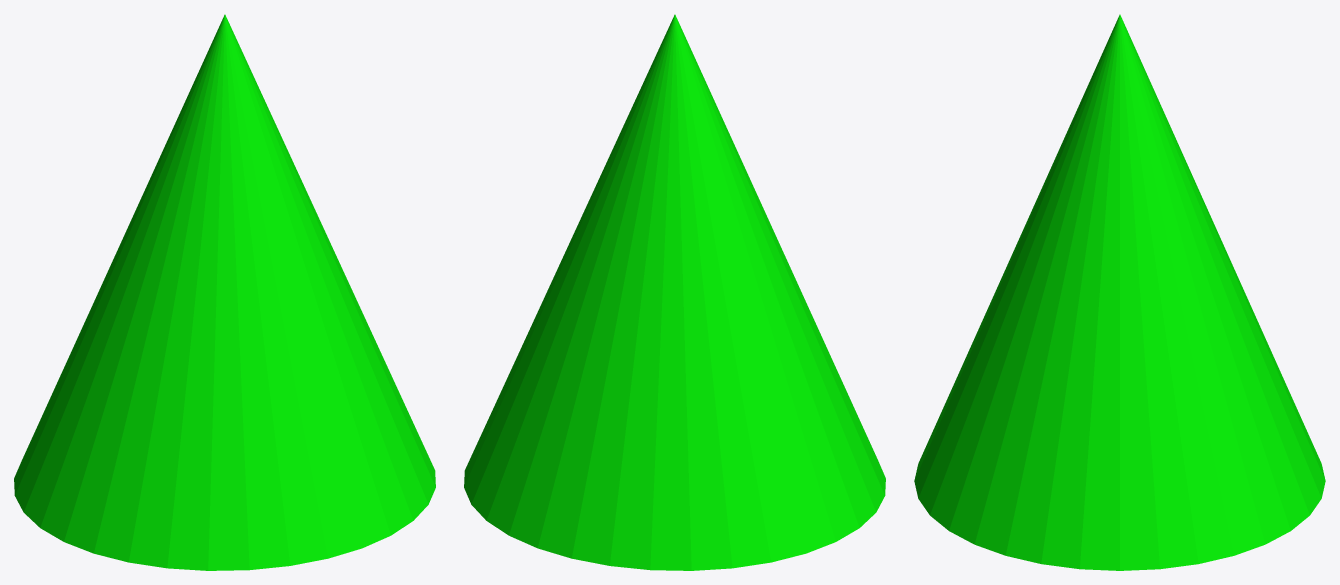
File: cone-green.glb
3 views of the same model, side by side, from view 1: azimuth 30°, elevation 25°; view 2: azimuth 150°, elevation 25°; view 3: azimuth 270°, elevation 25° (orthographic).
Parts seen in each view (by area): view 1: Cone; view 2: Cone; view 3: Cone.
Part boxes in pixels (x1=…): Cone: x1=14, y1=14, x2=435, y2=570; Cone: x1=464, y1=14, x2=885, y2=570; Cone: x1=914, y1=14, x2=1325, y2=570.
Size of the model in its own units: 3.34 by 4.05 by 3.23.
